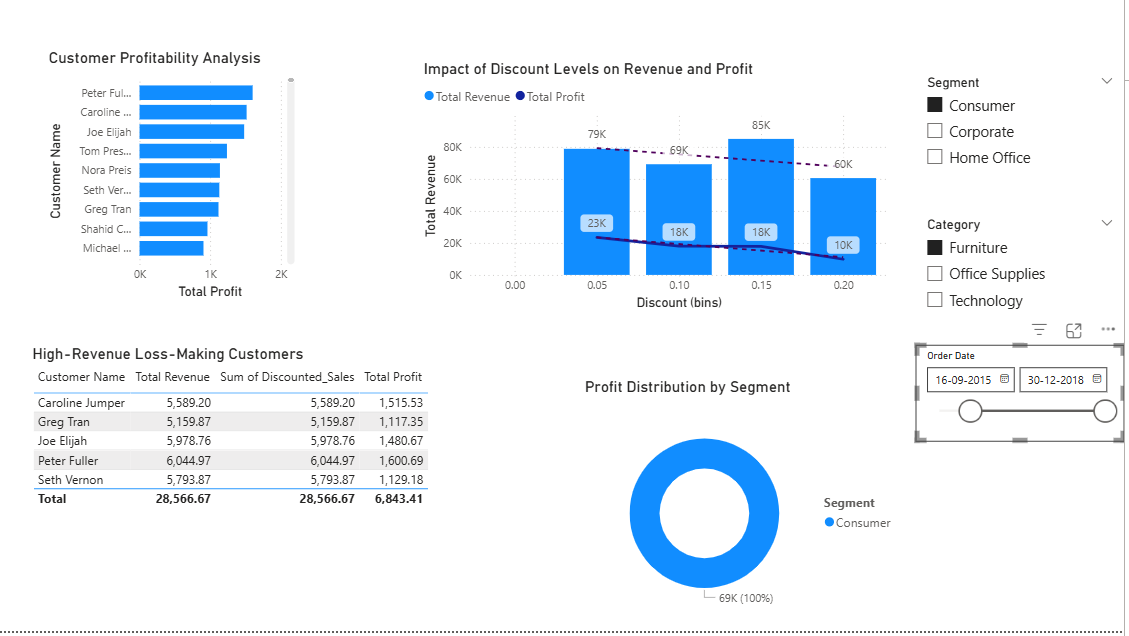

The dashboard page shown, as its layout file describes it:
{"tool":"powerbi","page":{"name":"Page 1","canvas":[1280,720],"ordinal":0},"visuals":[{"type":"clusteredBarChart","title":"Customer Profitability Analysis","fields":{"Category":["processed_sales.Customer Name"],"Y":["processed_sales.Total Profit"]},"box":[94.7,79.6,279.9,279.9],"z":0},{"type":"tableEx","title":"High-Revenue Loss-Making Customers","fields":{"Values":["processed_sales.Customer Name","processed_sales.Total Revenue","Sum(processed_sales.Discounted_Sales)","processed_sales.Total Profit"]},"box":[76.8,404.8,505,315.6],"z":1000},{"type":"donutChart","title":"Profit Distribution by Segment","fields":{"Category":["processed_sales.Segment"],"Y":["processed_sales.Total Profit"]},"box":[683.4,440.5,355.4,279.9],"z":2000},{"type":"slicer","fields":{"Values":["processed_sales.Category"]},"box":[1051.1,259.3,229.2,123.5],"z":3000},{"type":"slicer","fields":{"Values":["processed_sales.Segment"]},"box":[1051.1,102.9,229.2,138.6],"z":4000},{"type":"slicer","fields":{"Values":["processed_sales.Order Date"]},"box":[1051.1,404.8,229.2,107],"z":5000},{"type":"lineClusteredColumnComboChart","title":"Impact of Discount Levels on Revenue and Profit","fields":{"Category":["processed_sales.Discount (bins)"],"Y":["processed_sales.Total Revenue"],"Y2":["processed_sales.Total Profit"]},"box":[506.3,91.9,518.7,279.9],"z":6000}]}

Visuals, with their boxes in screenshot pixels (x1, y1, x2, y2), scaled from the page's 1280x720 canvas onto the 1129x636 screenshot:
"Customer Profitability Analysis" clusteredBarChart: <box>84,70,330,318</box>
"High-Revenue Loss-Making Customers" tableEx: <box>68,358,513,635</box>
"Profit Distribution by Segment" donutChart: <box>603,389,916,635</box>
slicer - processed_sales.Category: <box>927,229,1128,338</box>
slicer - processed_sales.Segment: <box>927,91,1128,213</box>
slicer - processed_sales.Order Date: <box>927,358,1128,452</box>
"Impact of Discount Levels on Revenue and Profit" lineClusteredColumnComboChart: <box>447,81,904,328</box>
